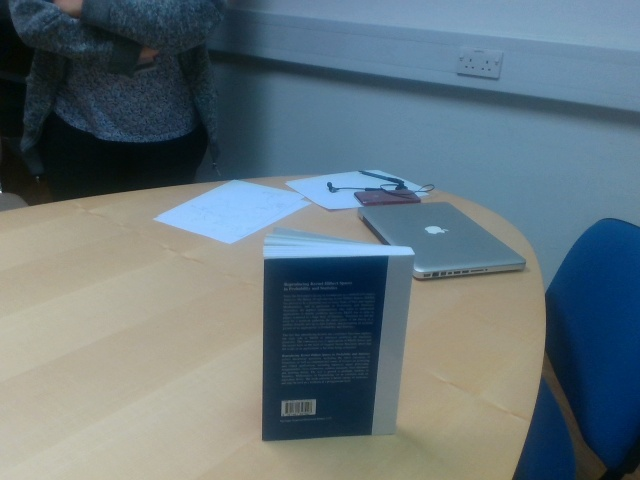book: (261, 225, 415, 441)
